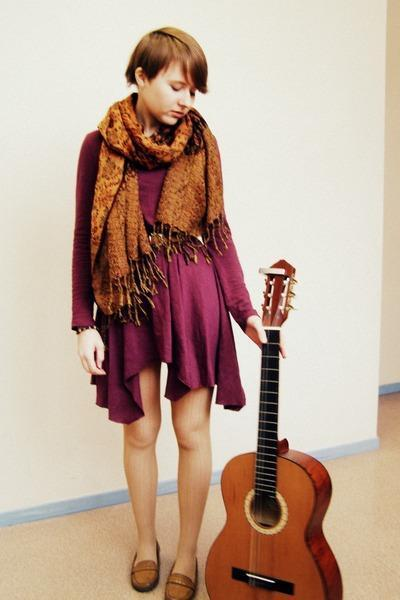dress: (71, 132, 259, 425)
shoe: (129, 541, 198, 599)
